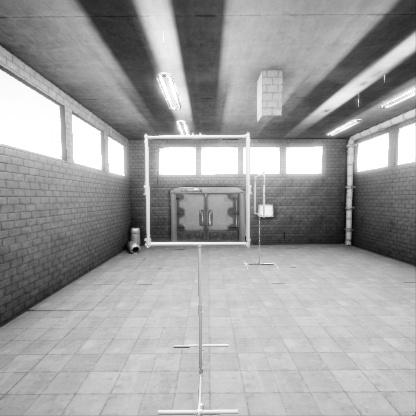gate: (150, 176, 259, 284), (255, 200, 265, 245)
